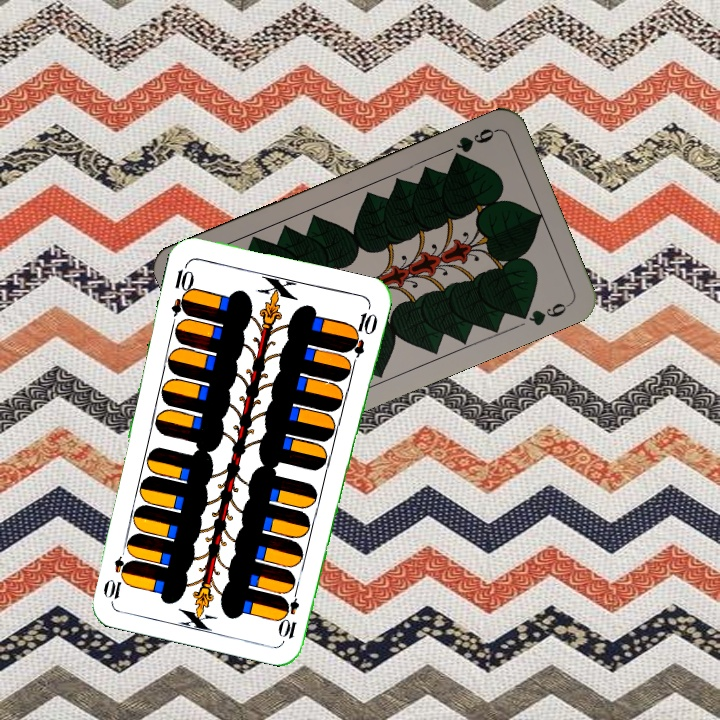E10: (167, 259, 197, 318), (278, 582, 302, 642)
G9: (447, 124, 500, 164)
